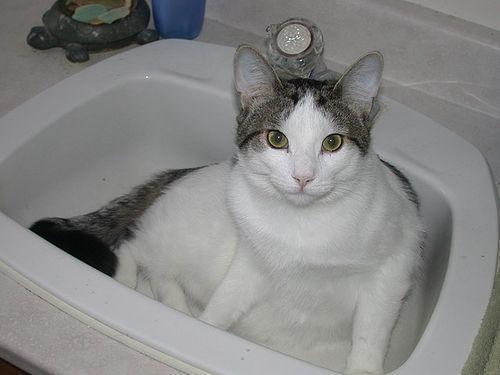Lavamanos: (0, 29, 499, 374)
